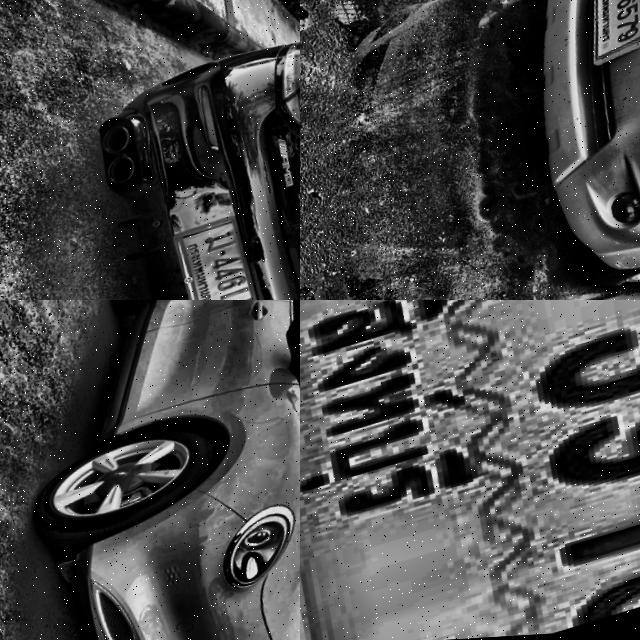license-plate: (300, 300, 640, 640), (168, 212, 273, 300), (568, 0, 640, 75)
